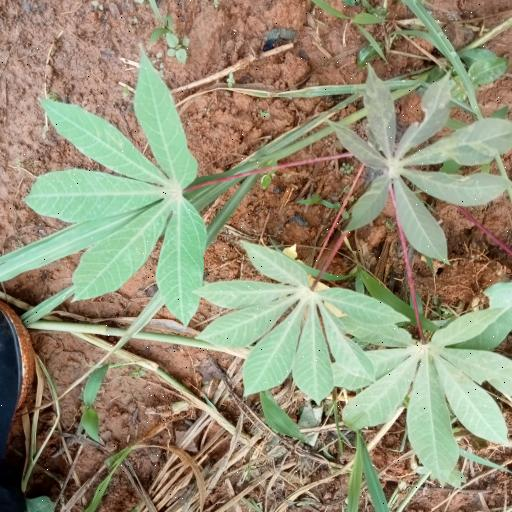Cassava_Mosaic: (33, 63, 209, 314), (338, 75, 512, 257), (345, 292, 511, 474), (194, 253, 391, 393)
